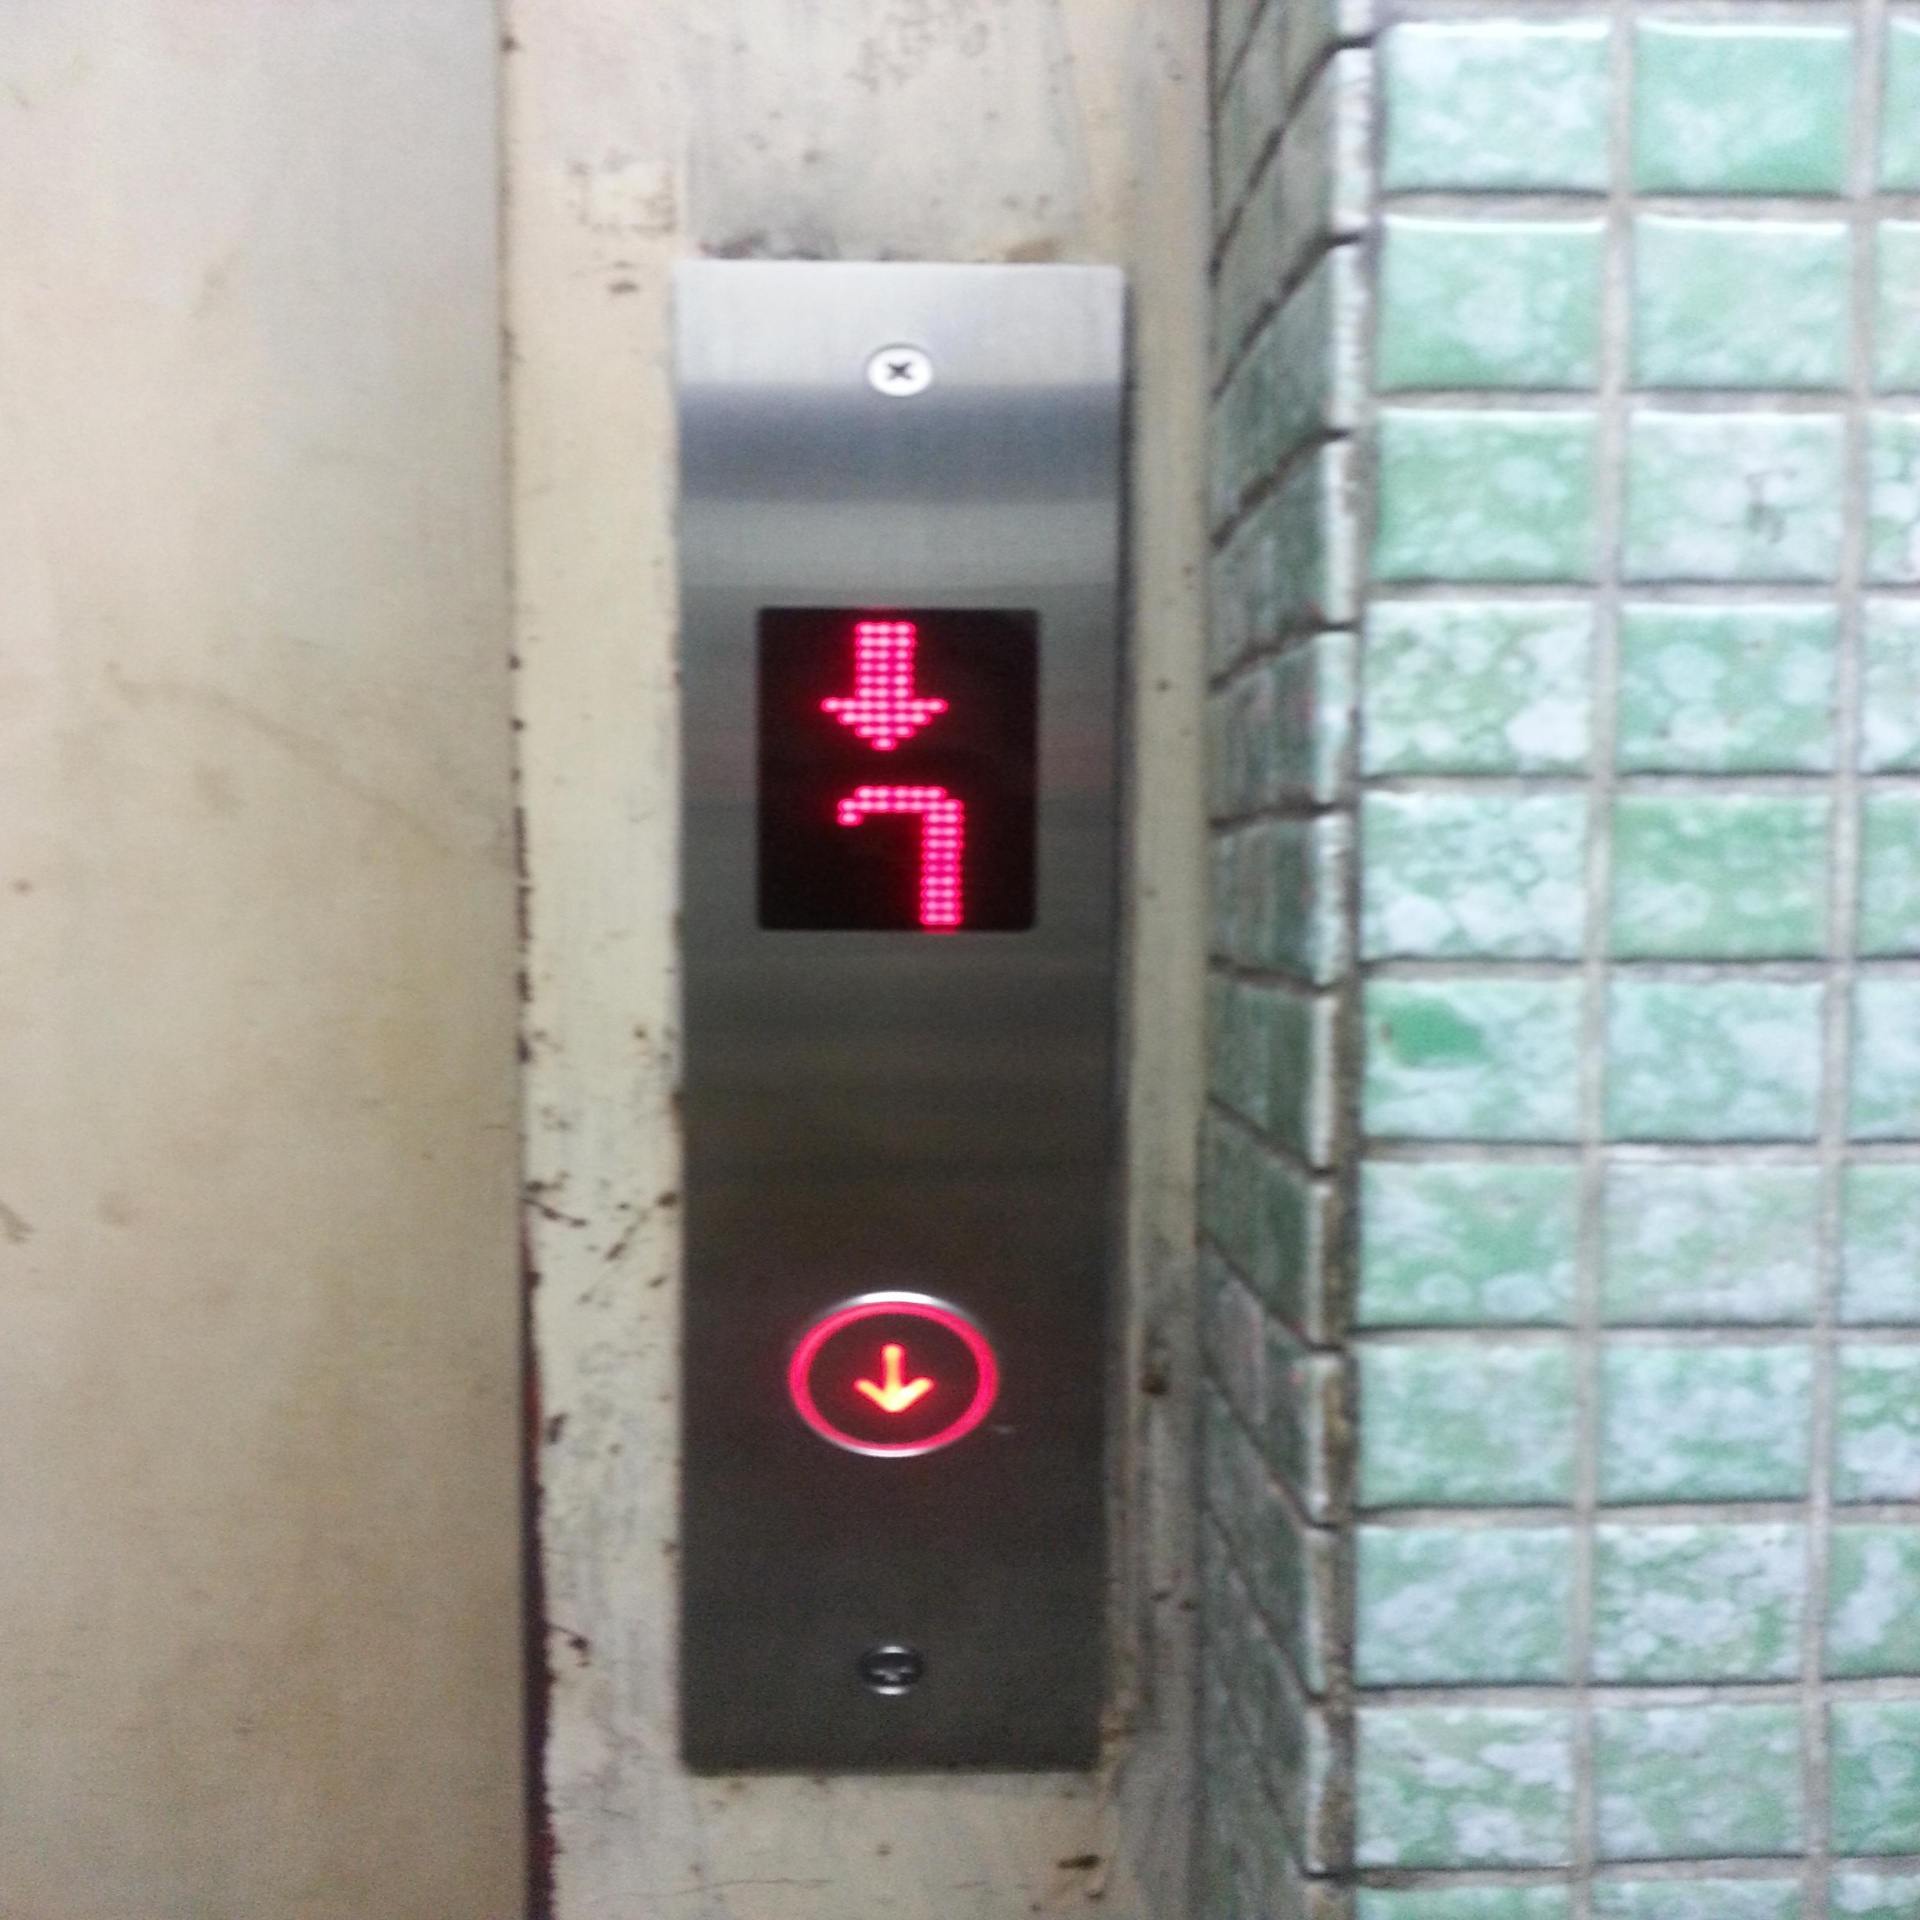down: (781, 1289, 1006, 1463)
led: (747, 596, 1044, 948)
